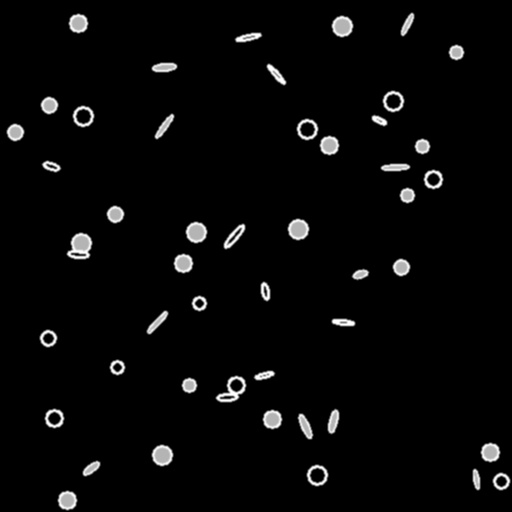pseudomonas: (222, 223, 246, 249), (146, 310, 168, 334), (154, 114, 174, 138), (266, 63, 286, 85), (297, 414, 313, 438), (400, 13, 414, 35), (327, 409, 339, 433), (82, 460, 100, 476), (236, 32, 260, 42), (42, 160, 60, 172), (254, 370, 274, 380), (371, 114, 387, 126), (260, 282, 270, 300), (153, 63, 175, 71), (67, 250, 89, 258), (352, 269, 368, 279), (333, 318, 353, 326), (217, 393, 237, 401), (382, 164, 408, 170), (472, 470, 480, 488)
synechocystis: (333, 17, 351, 35), (153, 446, 171, 464), (72, 234, 90, 252), (74, 107, 92, 125), (289, 220, 307, 238), (384, 92, 402, 110), (308, 466, 326, 484), (187, 223, 205, 241), (298, 120, 316, 138), (59, 492, 75, 508), (175, 255, 191, 271), (482, 444, 498, 460), (70, 15, 86, 31), (264, 411, 280, 427), (321, 137, 337, 153), (228, 377, 244, 393), (425, 171, 441, 187), (46, 410, 62, 426), (8, 125, 22, 139), (42, 98, 56, 112), (41, 331, 55, 345), (108, 207, 122, 221), (494, 474, 508, 488), (394, 260, 408, 274), (450, 46, 462, 58), (111, 361, 123, 373), (416, 140, 428, 152), (193, 297, 205, 309), (401, 189, 413, 201), (183, 379, 195, 391)
